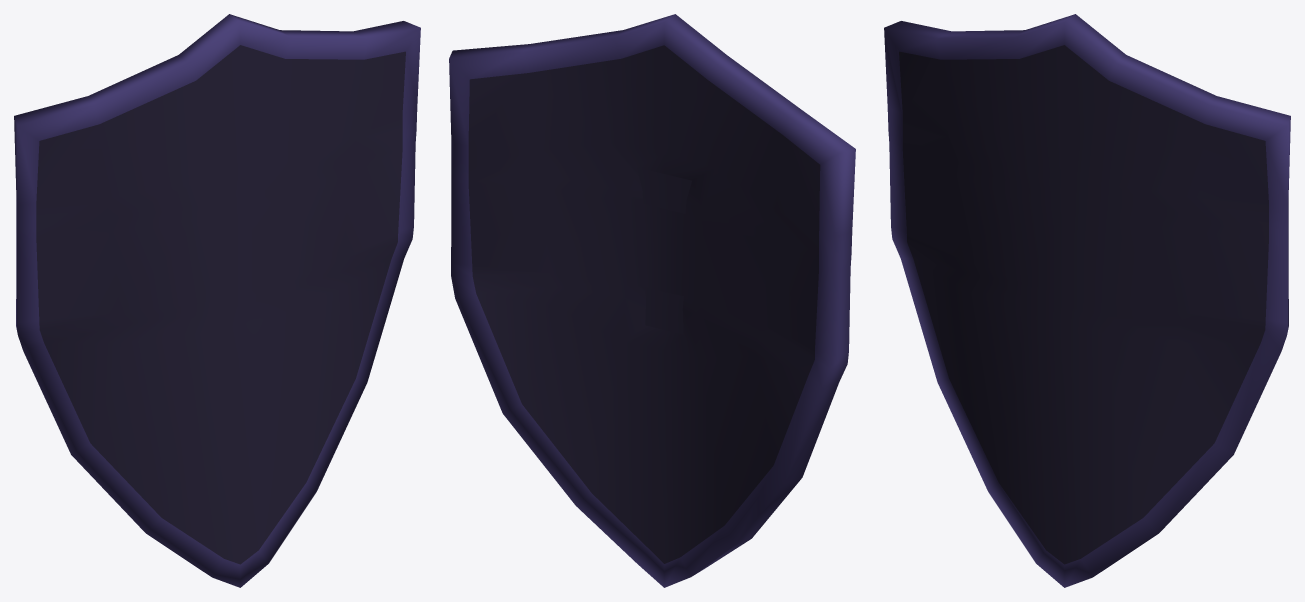
Rendered from kite-shield.glb.
3 renders of one model, left to right at view 1: azimuth 30°, elevation 25°; view 2: azimuth 150°, elevation 25°; view 3: azimuth 330°, elevation 25°, orthographic.
Parts seen in each view (by area): view 1: Kiteshield no handle; view 2: Kiteshield no handle; view 3: Kiteshield no handle.
Boxes of the visible parts, x1,y1,x2,y2 form: Kiteshield no handle: [14, 14, 420, 587]; Kiteshield no handle: [449, 14, 855, 587]; Kiteshield no handle: [884, 14, 1290, 587].
Size of the model in its own units: 0.4069 by 0.5455 by 0.0664.
